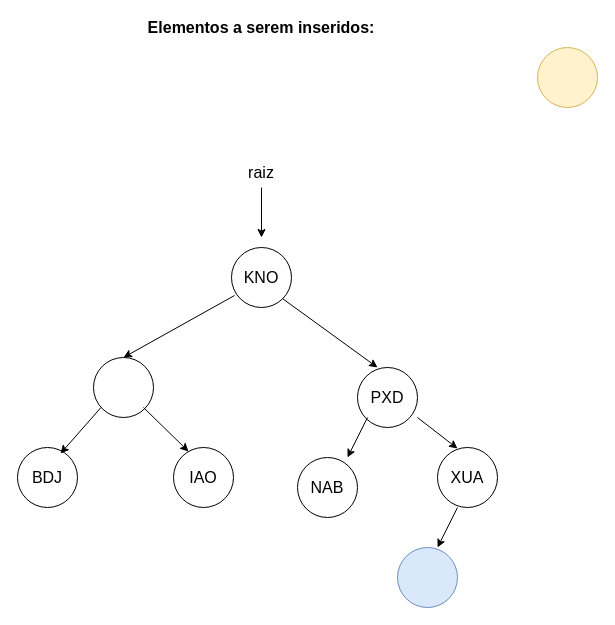
Some shapes in this 615 by 625 pixel diagram are drawn without their labels. The shapes that lost their labels are listed below. From the top down, each one's centre as x and y in pixels, then its label:
[567,77]: UTC
[123,387]: CFN
[427,577]: ROB
